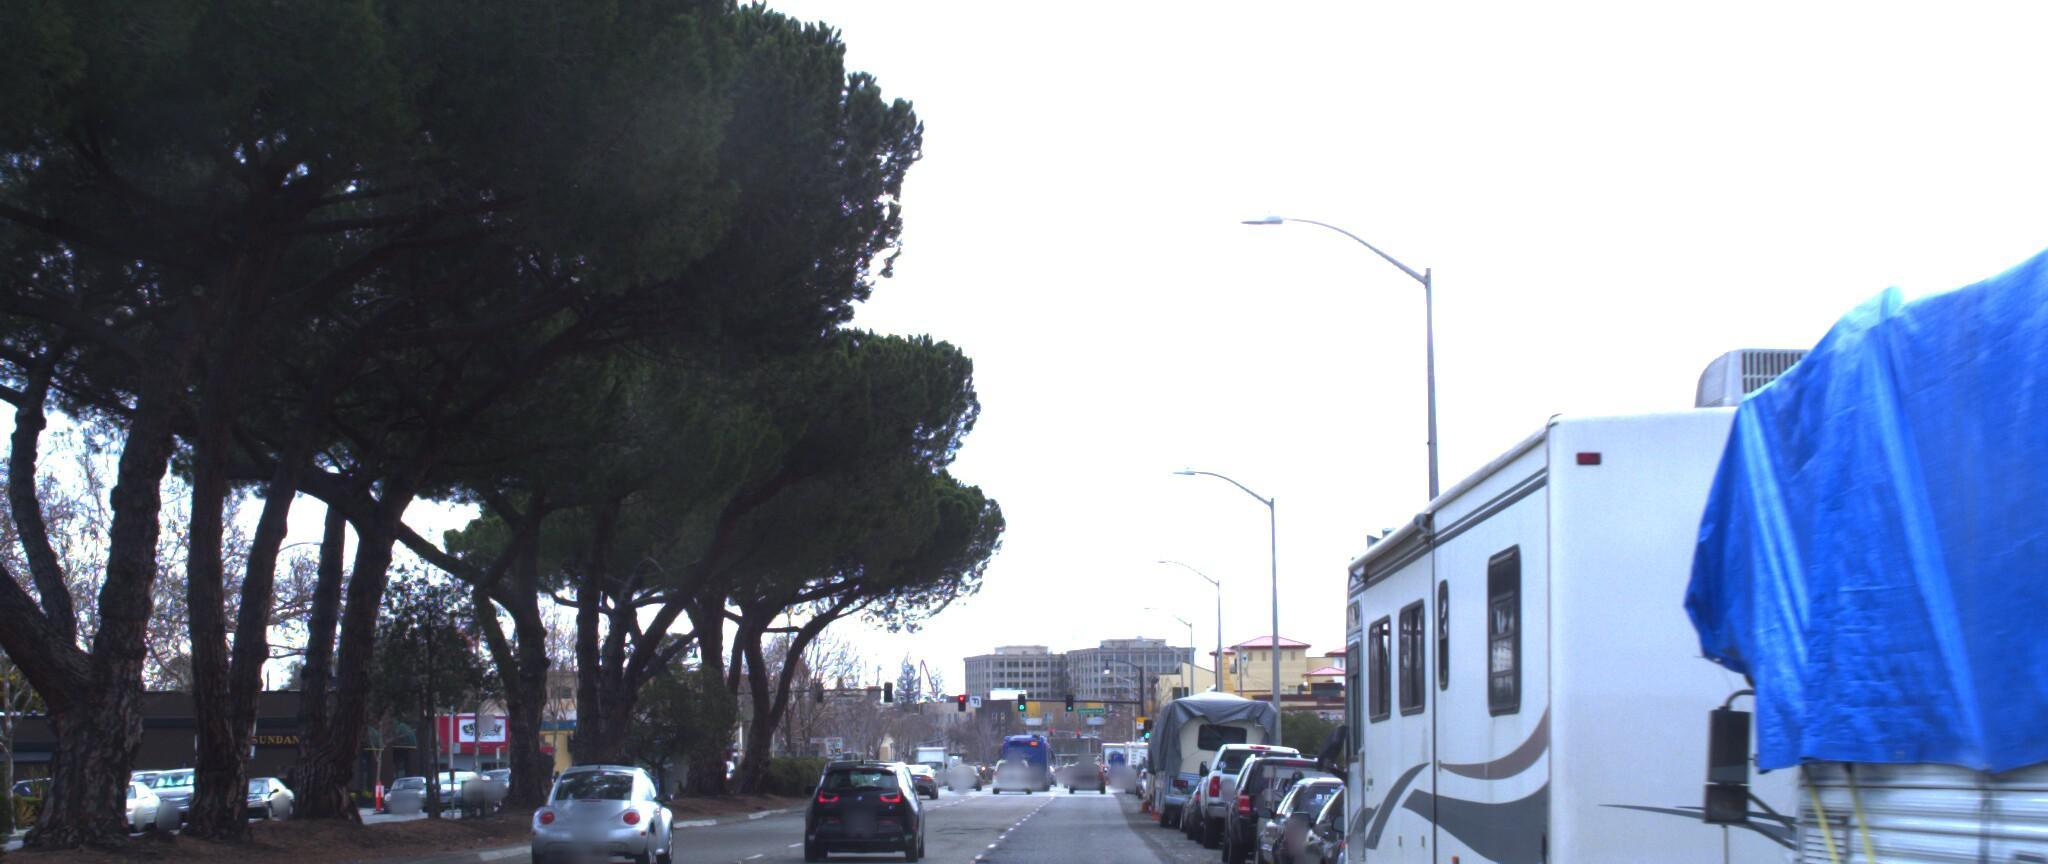bus: (1317, 384, 2048, 864), (1145, 677, 1275, 818)
car: (1273, 753, 1526, 864), (1237, 745, 1428, 864), (1247, 752, 1432, 864), (1213, 731, 1351, 863), (526, 744, 678, 861), (794, 741, 933, 851), (1190, 724, 1317, 837)
other_vehicle: (1629, 0, 2048, 864)
